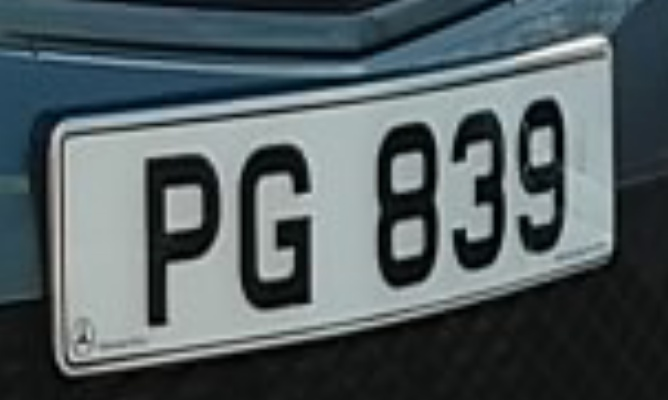3: (442, 101, 515, 272)
8: (366, 102, 446, 303)
9: (505, 87, 578, 268)
G: (224, 128, 328, 322)
P: (129, 123, 238, 338)
